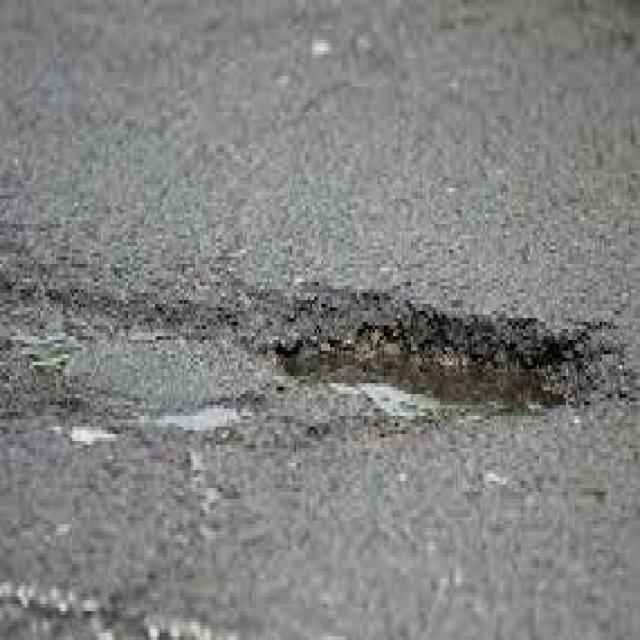Buraco: (0, 279, 635, 460)
